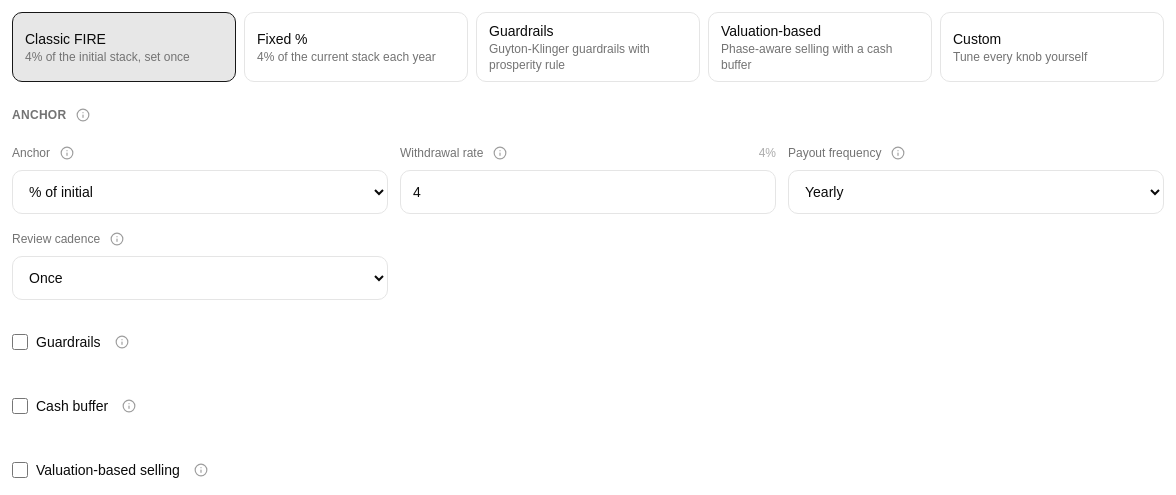
Scenario: WithdrawalTab › swaps the rate knob for a spend knob on fixed USD anchors
Select "Fixed USD / year" in the dropdown named "Anchor" at {"x": 200, "y": 192}, box [12,170,388,214]
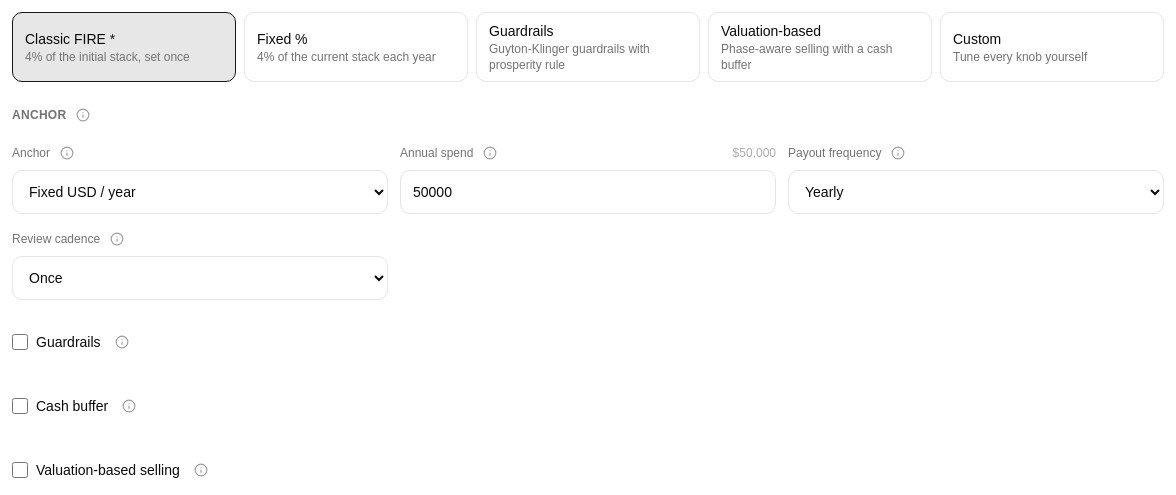
Result: the number field named "Annual spend value" is shown at [400,170,776,214]
